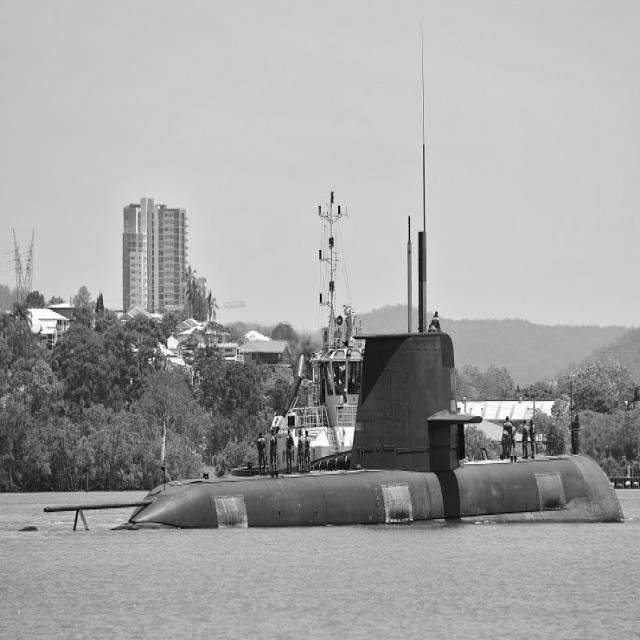submarine: (126, 328, 627, 527)
